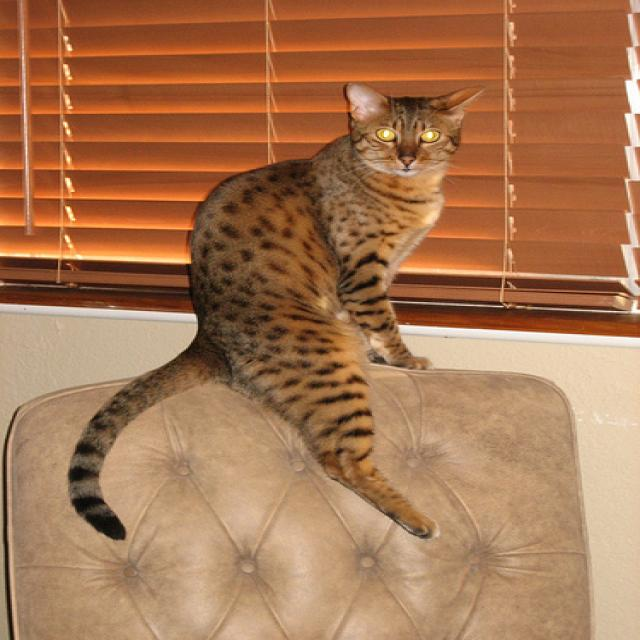cat: (343, 84, 483, 175)
